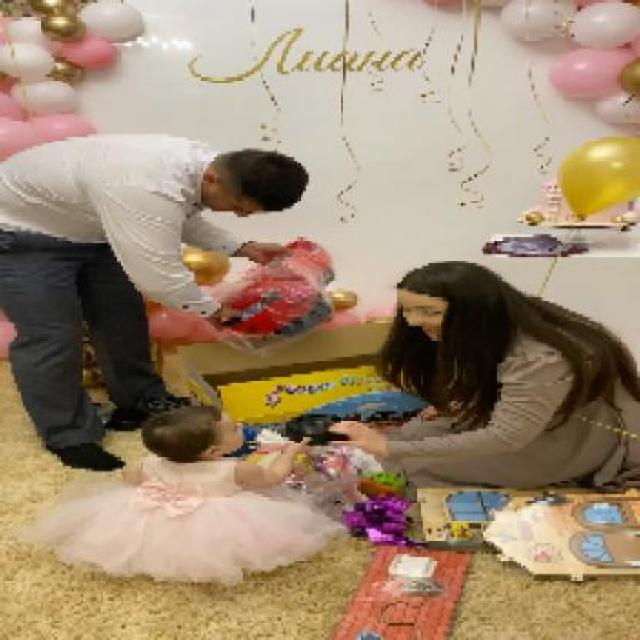child: (16, 406, 342, 586)
